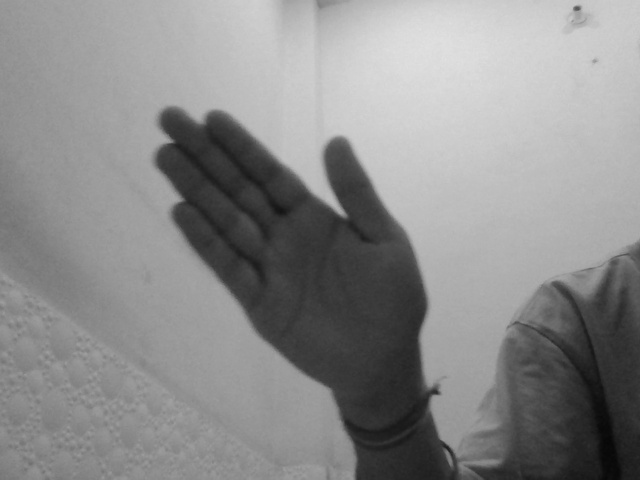Hello: (154, 102, 432, 406)
